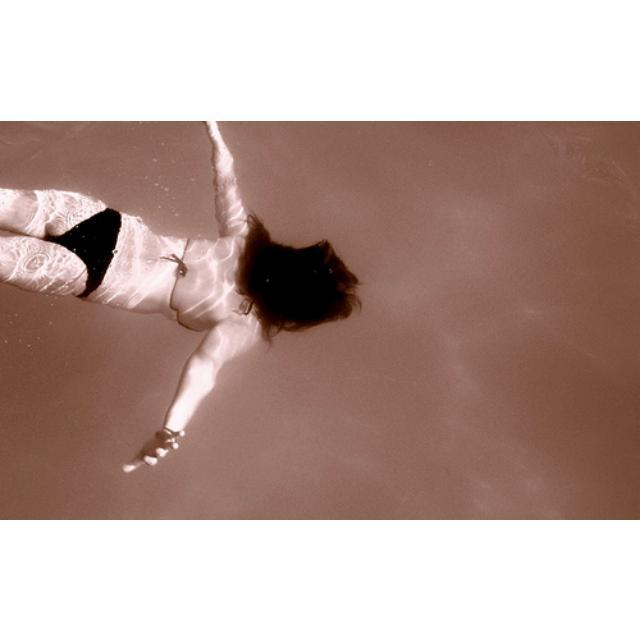human: (1, 123, 356, 473)
